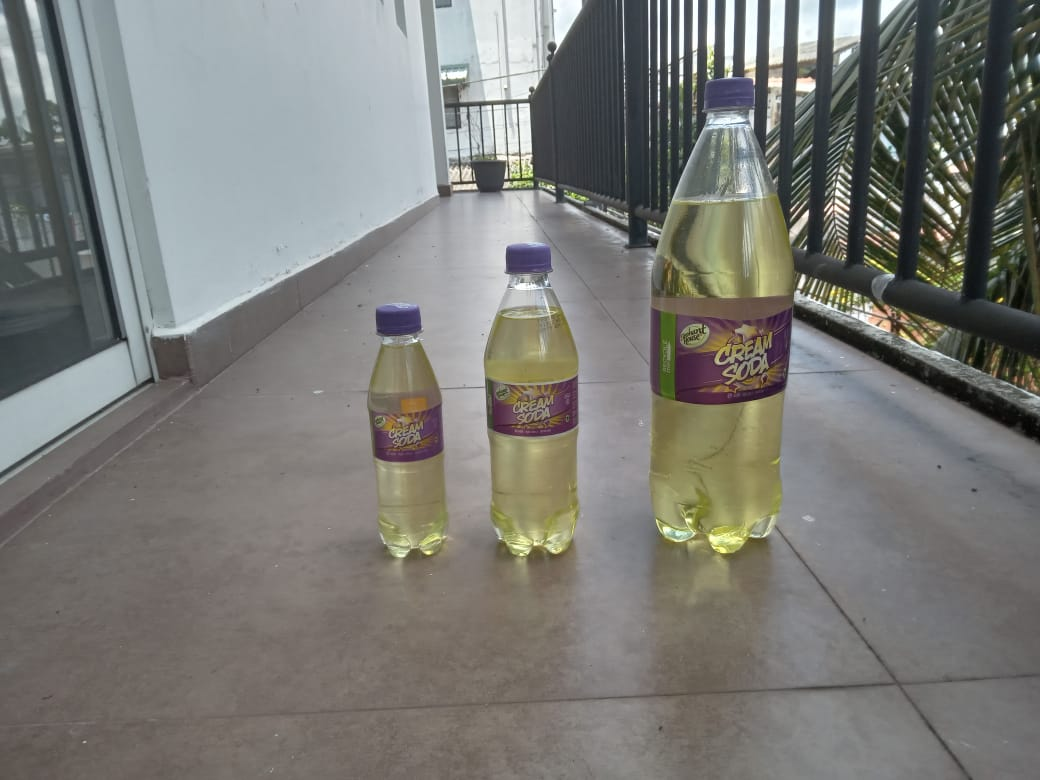L: (648, 80, 798, 554)
S: (481, 244, 581, 557)
Xs: (363, 305, 451, 559)
